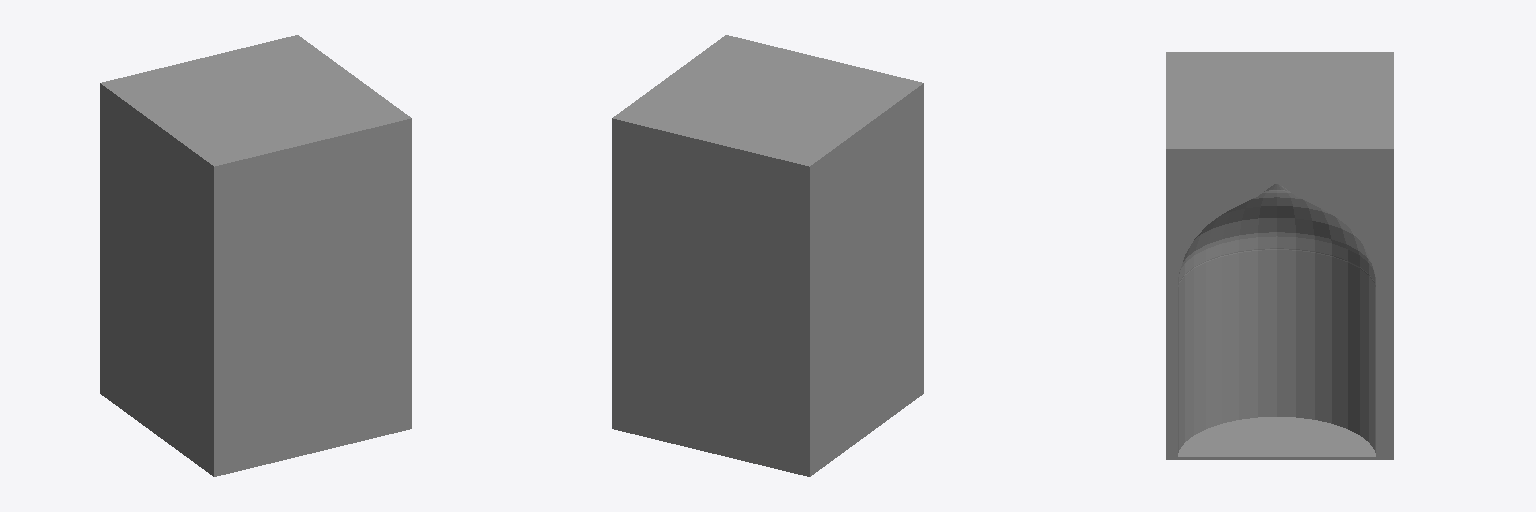
The model's file is arc.obj.
The picture shows the model from 3 angles: view 1: azimuth 30°, elevation 25°; view 2: azimuth 150°, elevation 25°; view 3: azimuth 270°, elevation 25°; orthographic projection.
Visible parts, largest first — view 1: Cube; view 2: Cube; view 3: Cube.
Boxes of the visible parts, x1=… form: Cube: x1=100, y1=35, x2=411, y2=476; Cube: x1=612, y1=35, x2=923, y2=476; Cube: x1=1166, y1=52, x2=1393, y2=459.
Size of the model in its own units: 2 by 3 by 2.